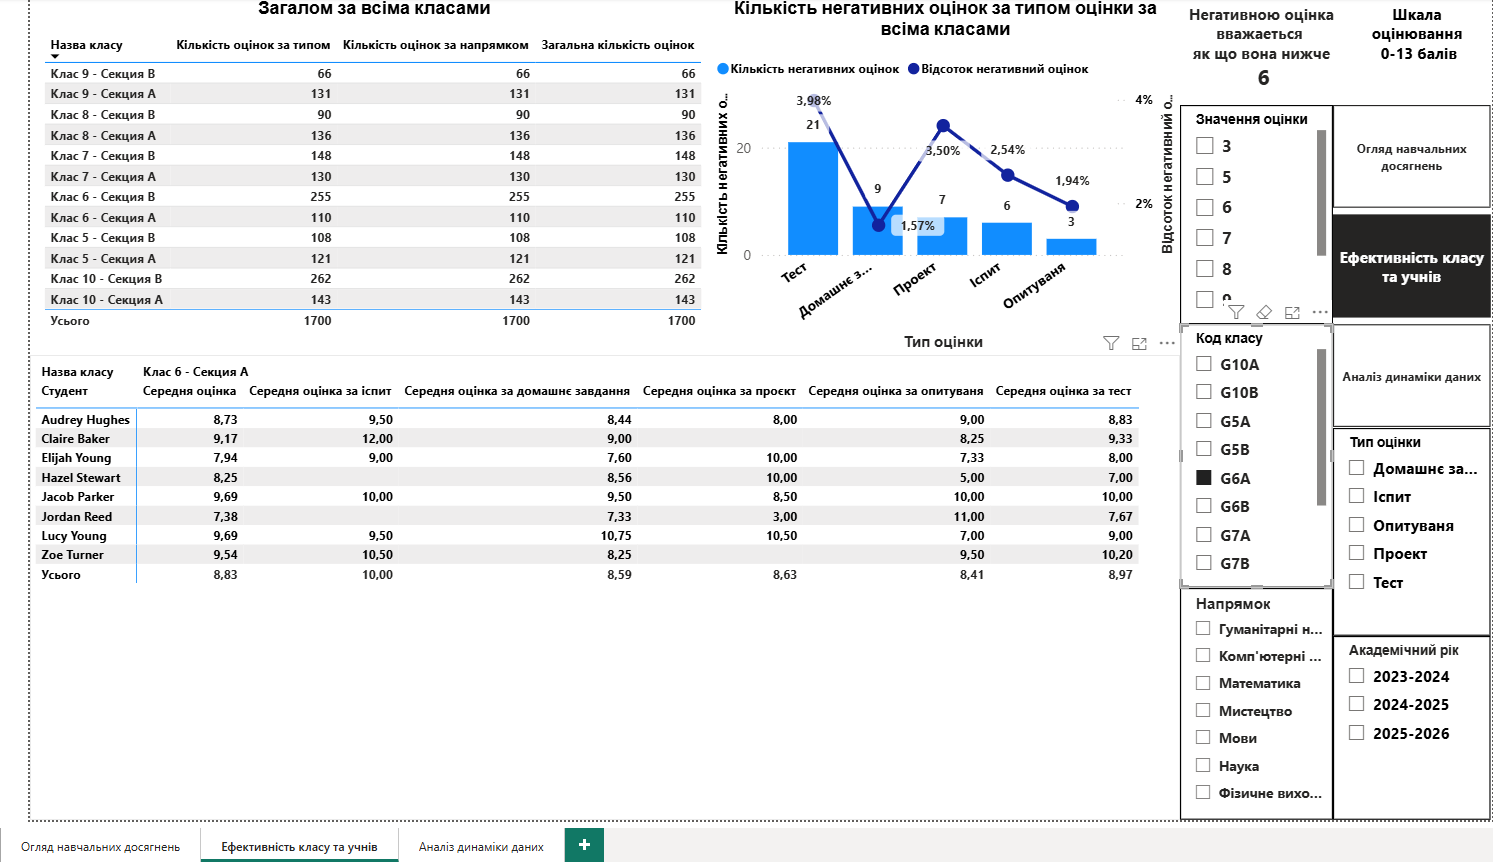

Layout of this report page (visuals, bound fields, positions):
{"tool":"powerbi","page":{"name":"Ефективність класу та учнів","canvas":[1280,720],"ordinal":1},"visuals":[{"type":"lineClusteredColumnComboChart","title":"Кількість негативних оцінок за типом оцінки за всіма класами","fields":{"Category":["grades.grade_type"],"Y":["_Measures.Neg_Grades_Count"],"Y2":["_Measures.Neg_Grades_Prop"]},"box":[596.5,0,410.8,312.7],"z":0},{"type":"tableEx","title":"Загалом за всіма класами","fields":{"Values":["classes.class_name","CountNonNull(grades.grade_value)","_Measures.ALL_Type_Grades","_Measures.Global_Grades_Count"]},"box":[7,0,589.5,312.7],"z":1000},{"type":"slicer","fields":{"Values":["grades.grade_type"]},"box":[1141.3,376.6,138.4,182.2],"z":2000},{"type":"slicer","fields":{"Values":["periods.academic_year"]},"box":[1141.3,558.8,138.4,161.2],"z":3000},{"type":"slicer","fields":{"Values":["subjects.department_hint"]},"box":[1007.3,516.8,134,203.2],"z":4000},{"type":"pivotTable","fields":{"Values":["_Measures.Average_Grade","_Measures.Exam_Average_Grade","_Measures.Homework_Average_Grade","_Measures.Project_Average_Grade","_Measures.Quiz_Average_Grade","_Measures.Test_Average_Grade"],"Rows":["students.student_name"],"Columns":["classes.class_name"]},"box":[0,312.7,1007.3,407.3],"z":5000},{"type":"textbox","box":[1150.1,0,129.6,93.7],"z":6000},{"type":"pageNavigator","box":[1141.3,93.7,138.4,282.9],"z":7000},{"type":"slicer","fields":{"Values":["classes.class_code"]},"box":[1007.3,285.5,134,231.2],"z":8000},{"type":"textbox","box":[1007.3,0,142.8,87.6],"z":9000},{"type":"slicer","fields":{"Values":["grades.grade_value"]},"box":[1007.3,93.7,134,191.8],"z":10000}]}

Visuals, with their boxes in screenshot pixels (x1, y1, x2, y2), scaled from the page's 1280x720 canvas onto the 1493x862 screenshot:
"Кількість негативних оцінок за типом оцінки за всіма класами" lineClusteredColumnComboChart: region(696, 0, 1175, 374)
"Загалом за всіма класами" tableEx: region(8, 0, 696, 374)
slicer - grades.grade_type: region(1331, 451, 1492, 669)
slicer - periods.academic_year: region(1331, 669, 1492, 861)
slicer - subjects.department_hint: region(1175, 619, 1331, 861)
pivotTable - _Measures.Average_Grade x _Measures.Exam_Average_Grade: region(0, 374, 1175, 861)
textbox: region(1341, 0, 1492, 112)
pageNavigator: region(1331, 112, 1492, 451)
slicer - classes.class_code: region(1175, 342, 1331, 619)
textbox: region(1175, 0, 1341, 105)
slicer - grades.grade_value: region(1175, 112, 1331, 342)
